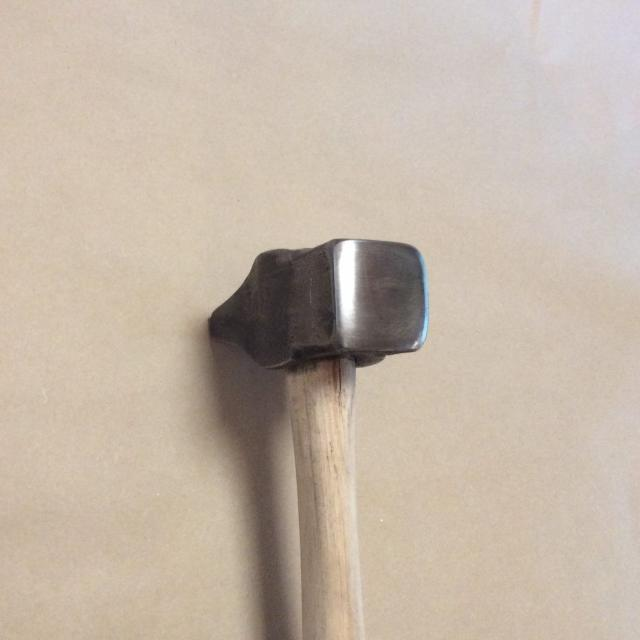hammer: (200, 230, 433, 640)
